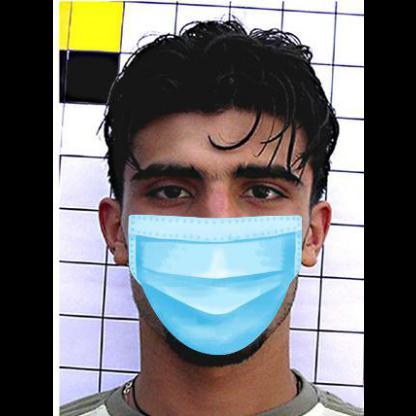Surgical Mask: (106, 118, 324, 354)
